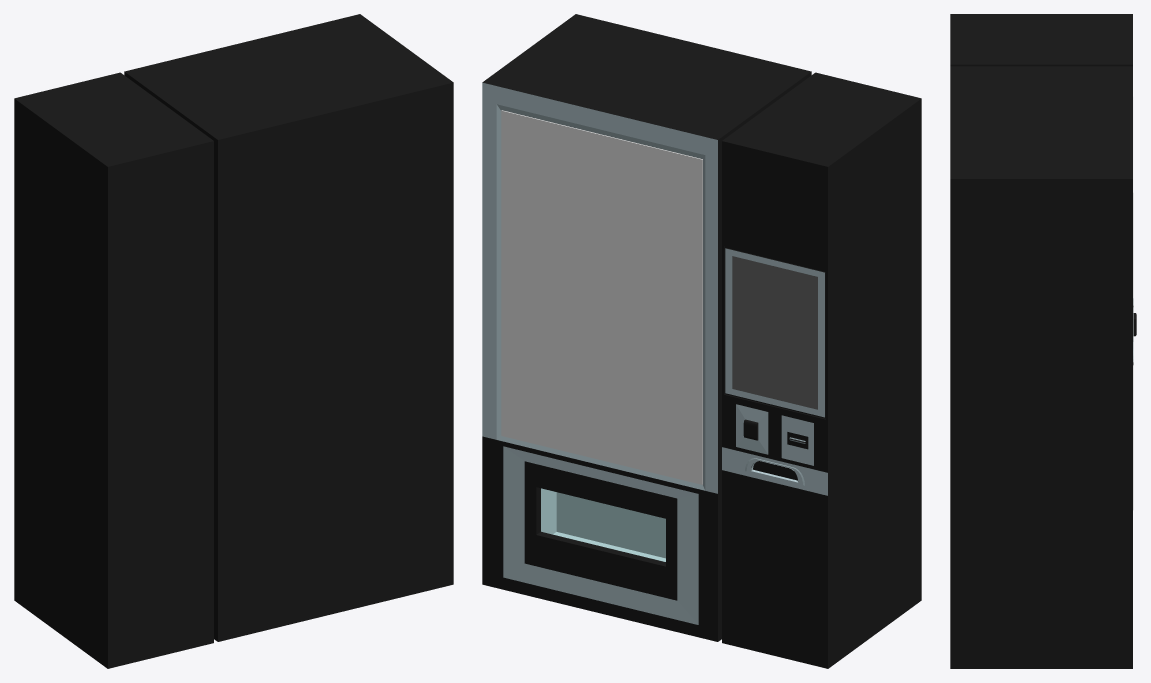
Rendered from distributeur_glb.glb.
3 renders of one model, left to right at view 1: azimuth 30°, elevation 25°; view 2: azimuth 150°, elevation 25°; view 3: azimuth 270°, elevation 25°, orthographic. The views are drawn at different scales.
Visible parts, largest first — view 1: Distributeur, Boisson; view 2: Boisson, Distributeur, Vitre; view 3: Distributeur, Boisson, Vitre.
Boxes of the visible parts, <box> form: Distributeur: <box>124,14,453,641</box>; Boisson: <box>14,72,213,668</box>; Boisson: <box>722,72,921,668</box>; Distributeur: <box>482,14,811,641</box>; Vitre: <box>501,110,702,484</box>; Distributeur: <box>950,66,1132,668</box>; Boisson: <box>950,14,1136,364</box>; Vitre: <box>1133,97,1133,509</box>.
Size of what is drawn, in the model's own units: 4.44 by 6.16 by 2.12.
